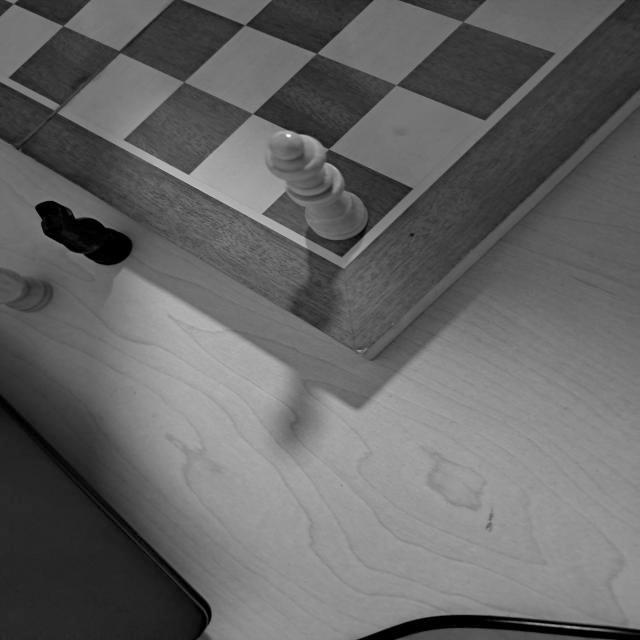chess-table-corners: (306, 233, 378, 283)
